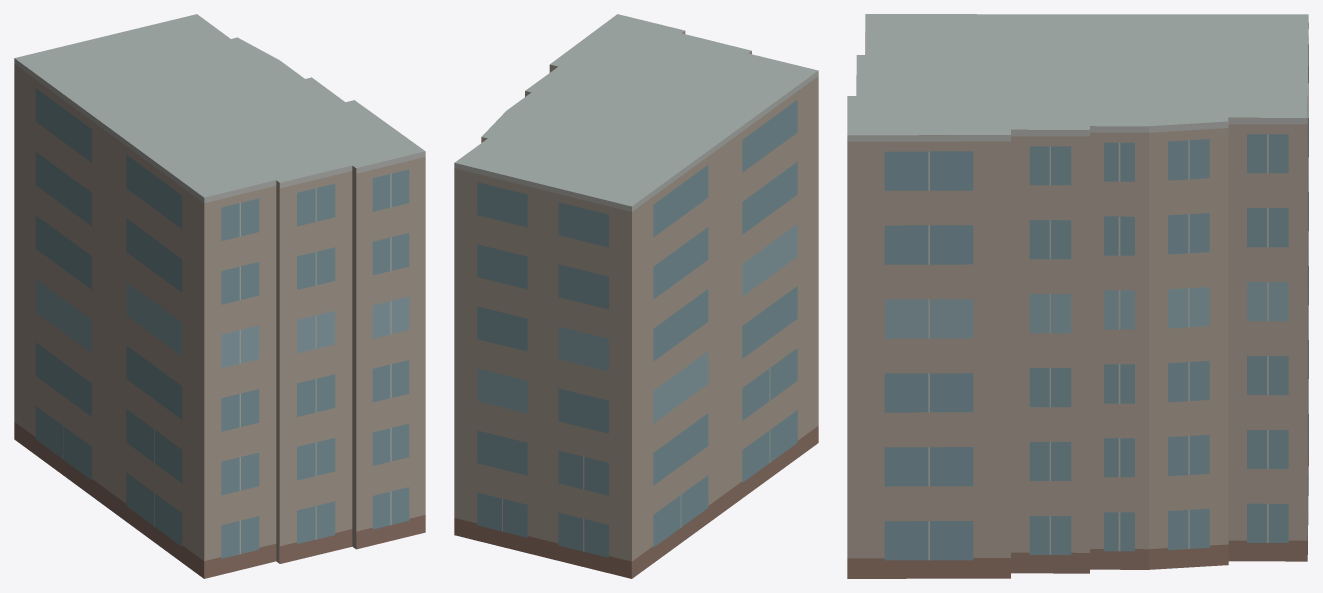
Rendered from survey-upis-32739857.glb.
3 views of the same model, side by side, from view 1: azimuth 30°, elevation 25°; view 2: azimuth 150°, elevation 25°; view 3: azimuth 270°, elevation 25° (orthographic). The views are drawn at different scales.
Parts seen in each view (by area): view 1: survey-upis-32739857.tmp; view 2: survey-upis-32739857.tmp; view 3: survey-upis-32739857.tmp.
Part boxes in pixels (box(x1,y1,x2,y2)): survey-upis-32739857.tmp: box(14, 14, 425, 578); survey-upis-32739857.tmp: box(454, 14, 818, 578); survey-upis-32739857.tmp: box(847, 14, 1308, 578).
Size of the model in its own units: 9.81 by 16.7 by 15.76.
